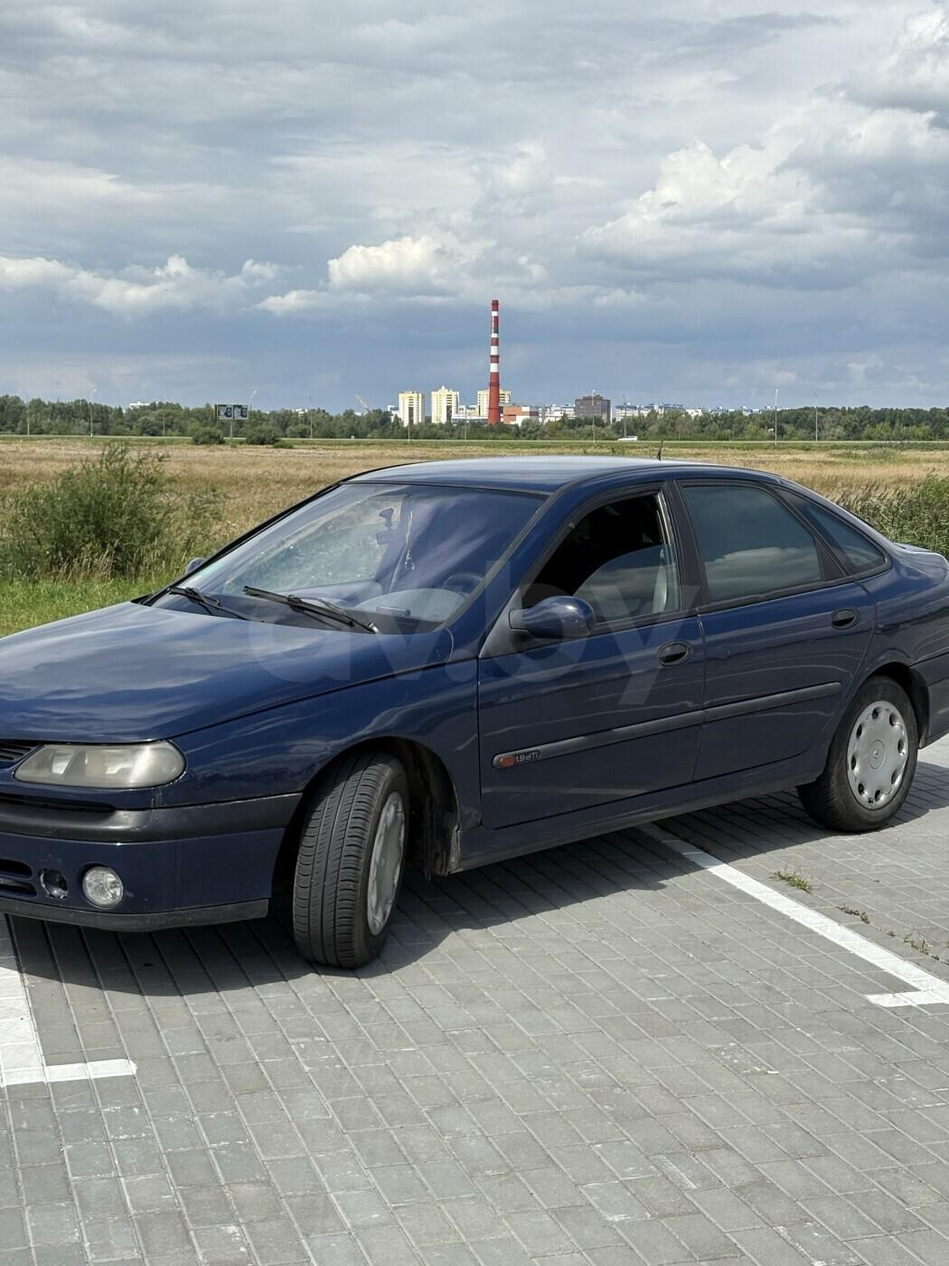Laguna_1998-2001: (0, 449, 949, 960)
